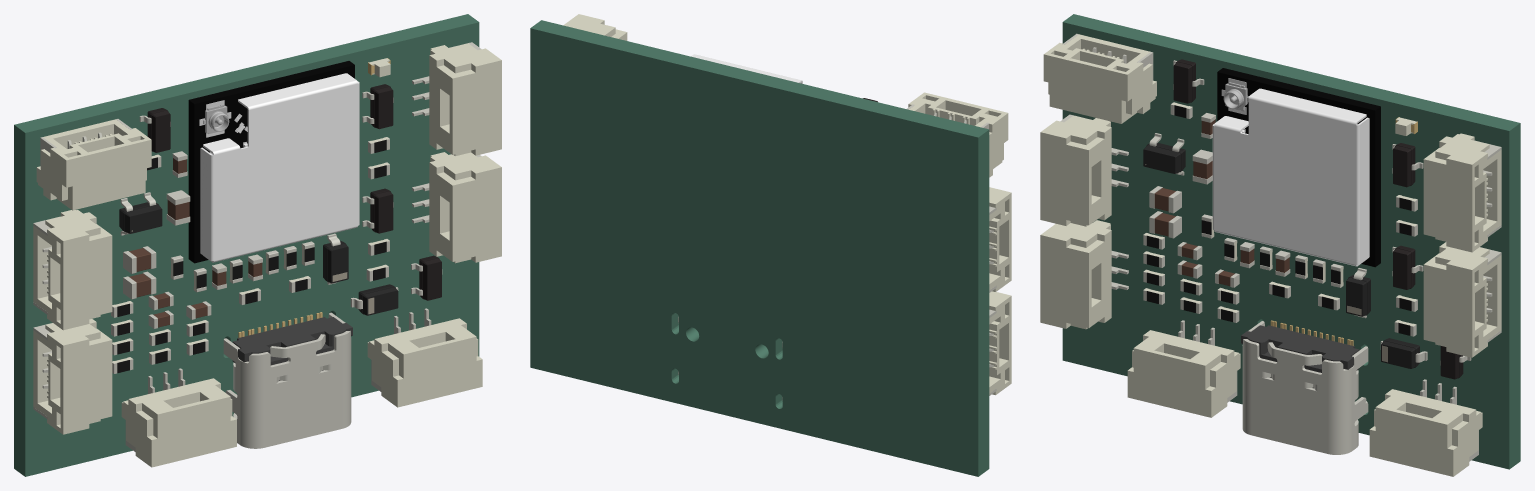
Rendered from board.glb.
3 renders of one model, left to right at view 1: azimuth 30°, elevation 25°; view 2: azimuth 150°, elevation 25°; view 3: azimuth 330°, elevation 25°, orthographic.
Parts seen in each view (by area): view 1: =>[0:1:1:22], =>[0:1:1:11]_1799e5, =>[0:1:1:21], =>[0:1:1:13]_1_00a9b1, =>[0:1:1:13]_6_f6580d, =>[0:1:1:13]_2_ce7257, =>[0:1:1:13]_3_f001a4, =>[0:1:1:13]_5_8a1d67, =>[0:1:1:13]_4_a8bf92, =>[0:1:1:13]_f347ac, =>[0:1:1:11]_2ceada, =>[0:1:1:19]_661ac5 (+7 smaller); view 2: =>[0:1:1:22], =>[0:1:1:13]_6_f6580d, =>[0:1:1:13]_1_00a9b1, =>[0:1:1:13]_2_ce7257, =>[0:1:1:13]_3_f001a4; view 3: =>[0:1:1:22], =>[0:1:1:11]_1799e5, =>[0:1:1:21], =>[0:1:1:13]_3_f001a4, =>[0:1:1:13]_6_f6580d, =>[0:1:1:13]_4_a8bf92, =>[0:1:1:13]_1_00a9b1, =>[0:1:1:13]_5_8a1d67, =>[0:1:1:13]_f347ac, =>[0:1:1:13]_2_ce7257, =>[0:1:1:11]_2ceada, =>[0:1:1:19]_661ac5 (+7 smaller).
Boxes of the visible parts, box(x1,y1,x2,y2) form: =>[0:1:1:22]: box(14, 14, 479, 476); =>[0:1:1:11]_1799e5: box(200, 73, 359, 262); =>[0:1:1:21]: box(223, 312, 352, 448); =>[0:1:1:13]_1_00a9b1: box(33, 210, 112, 330); =>[0:1:1:13]_6_f6580d: box(36, 119, 151, 210); =>[0:1:1:13]_2_ce7257: box(33, 319, 112, 434); =>[0:1:1:13]_3_f001a4: box(429, 43, 501, 156); =>[0:1:1:13]_5_8a1d67: box(121, 378, 236, 467); =>[0:1:1:13]_4_a8bf92: box(429, 152, 501, 263); =>[0:1:1:13]_f347ac: box(367, 318, 482, 407); =>[0:1:1:11]_2ceada: box(188, 61, 354, 263); =>[0:1:1:19]_661ac5: box(119, 202, 162, 233); =>[0:1:1:22]: box(530, 20, 989, 476); =>[0:1:1:13]_6_f6580d: box(908, 92, 1008, 177); =>[0:1:1:13]_1_00a9b1: box(989, 187, 1011, 291); =>[0:1:1:13]_2_ce7257: box(989, 291, 1011, 395); =>[0:1:1:13]_3_f001a4: box(563, 14, 627, 40); =>[0:1:1:22]: box(1062, 14, 1520, 469); =>[0:1:1:11]_1799e5: box(1212, 88, 1369, 266); =>[0:1:1:21]: box(1241, 320, 1368, 454); =>[0:1:1:13]_3_f001a4: box(1423, 133, 1501, 252); =>[0:1:1:13]_6_f6580d: box(1043, 34, 1156, 123); =>[0:1:1:13]_4_a8bf92: box(1423, 242, 1501, 357); =>[0:1:1:13]_1_00a9b1: box(1040, 115, 1111, 226); =>[0:1:1:13]_5_8a1d67: box(1127, 330, 1240, 417); =>[0:1:1:13]_f347ac: box(1369, 389, 1482, 476); =>[0:1:1:13]_2_ce7257: box(1040, 220, 1111, 329); =>[0:1:1:11]_2ceada: box(1217, 68, 1380, 267); =>[0:1:1:19]_661ac5: box(1143, 143, 1185, 173).
Bounding box in the file's own units: 37.3 × 27.48 × 5.89.
